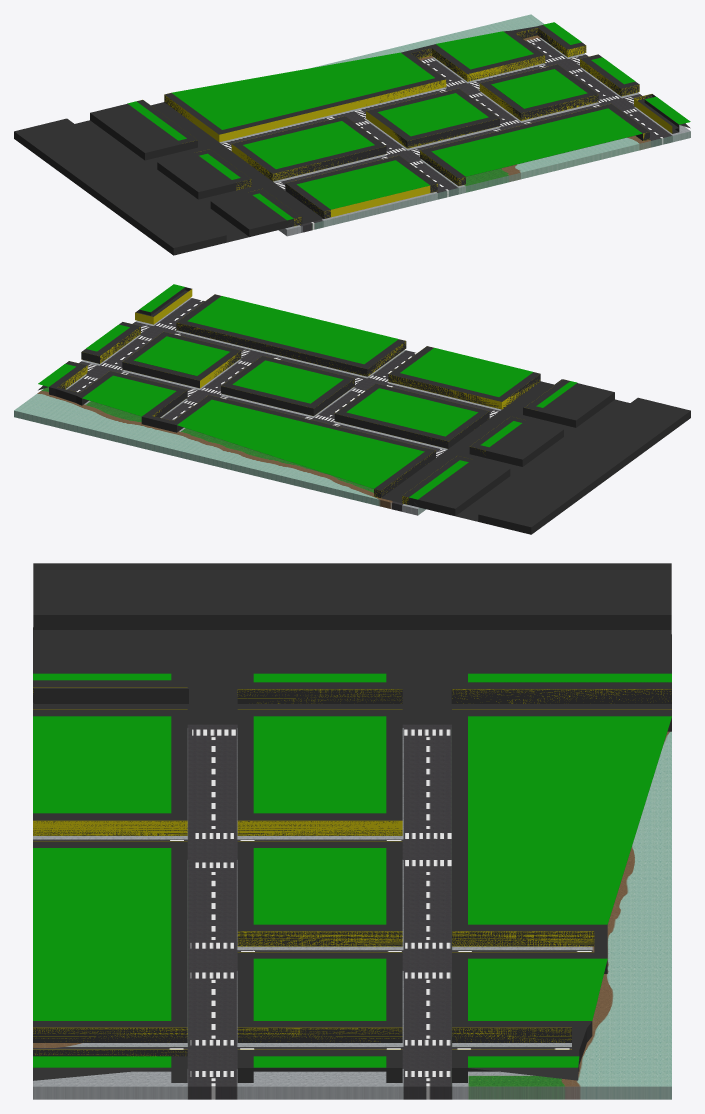
File: norte.obj
The picture shows the model from 3 angles, top to bottom: view 1: azimuth 30°, elevation 25°; view 2: azimuth 150°, elevation 25°; view 3: azimuth 270°, elevation 25°; orthographic projection. The views are drawn at different scales.
Visible parts, largest first — view 1: Plane.002_Plane.004, Plane.007_Plane.002, Plane.001_Plane.003, Plane, Plane.004_Plane.006, Plane.006_Plane.008; view 2: Plane.002_Plane.004, Plane.007_Plane.002, Plane, Plane.001_Plane.003, Plane.004_Plane.006, Plane.006_Plane.008; view 3: Plane.002_Plane.004, Plane.007_Plane.002, Plane, Plane.001_Plane.003, Plane.004_Plane.006, Plane.006_Plane.008.
Part boxes in pixels (x1=…): Plane.002_Plane.004: x1=127, y1=22, x2=690, y2=220; Plane.007_Plane.002: x1=14, y1=95, x2=323, y2=255; Plane.001_Plane.003: x1=137, y1=25, x2=690, y2=226; Plane: x1=219, y1=14, x2=690, y2=236; Plane.004_Plane.006: x1=141, y1=28, x2=672, y2=226; Plane.006_Plane.008: x1=491, y1=69, x2=587, y2=108; Plane.002_Plane.004: x1=38, y1=284, x2=577, y2=499; Plane.007_Plane.002: x1=381, y1=374, x2=690, y2=534; Plane: x1=14, y1=297, x2=501, y2=515; Plane.001_Plane.003: x1=38, y1=287, x2=569, y2=505; Plane.004_Plane.006: x1=57, y1=289, x2=539, y2=504; Plane.006_Plane.008: x1=134, y1=336, x2=229, y2=375; Plane.002_Plane.004: x1=33, y1=673, x2=671, y2=1067; Plane.007_Plane.002: x1=33, y1=563, x2=671, y2=724; Plane: x1=33, y1=724, x2=671, y2=1099; Plane.001_Plane.003: x1=33, y1=674, x2=671, y2=1082; Plane.004_Plane.006: x1=33, y1=687, x2=671, y2=1056; Plane.006_Plane.008: x1=253, y1=958, x2=386, y2=1020.
Size of the model in its own units: 62.52 by 1.85 by 33.46.
4 materials, 1 textured.
